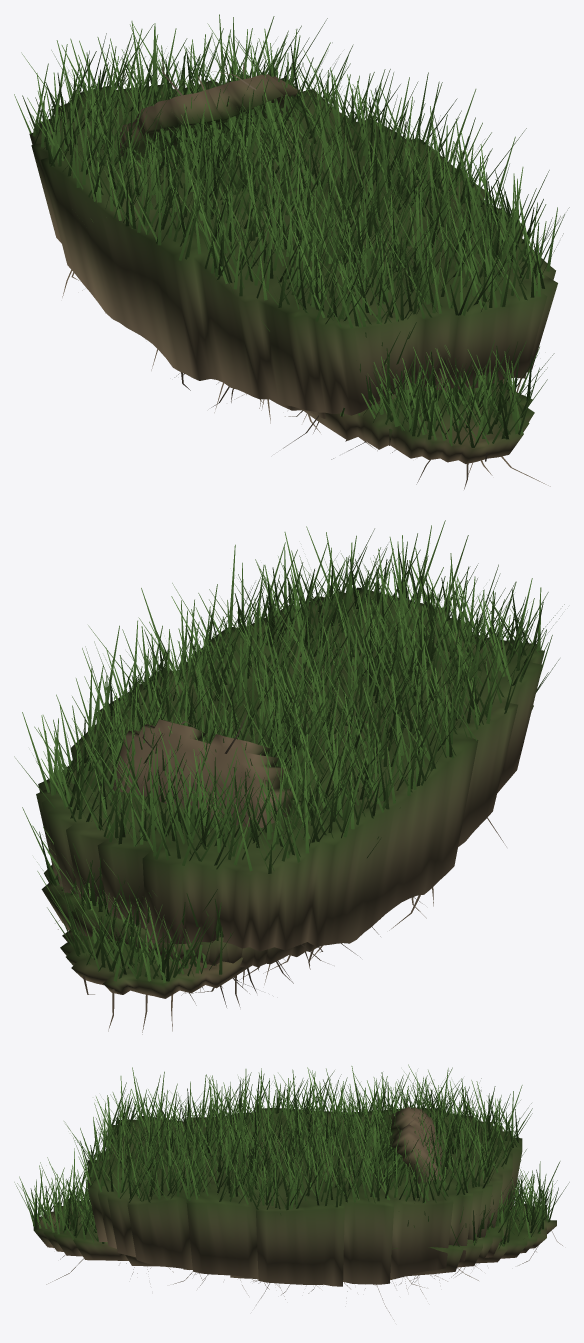
Rendered from divots.glb.
3 renders of one model, top to bottom at view 1: azimuth 30°, elevation 25°; view 2: azimuth 150°, elevation 25°; view 3: azimuth 270°, elevation 25°, orthographic. The views are drawn at different scales.
Parts seen in each view (by area): view 1: divot_chunk, divot_curl, divot_strip; view 2: divot_chunk, divot_strip, divot_curl, divot_broken_b, divot_dollar; view 3: divot_chunk, divot_curl, divot_strip, divot_broken_b.
Boxes of the visible parts, <box> form: divot_chunk: <box>14,14,569,448</box>; divot_curl: <box>119,56,554,489</box>; divot_strip: <box>29,115,520,484</box>; divot_chunk: <box>14,520,564,991</box>; divot_strip: <box>37,642,548,1034</box>; divot_curl: <box>113,599,559,981</box>; divot_broken_b: <box>22,807,400,1007</box>; divot_dollar: <box>32,825,433,1005</box>; divot_chunk: <box>64,1064,532,1319</box>; divot_curl: <box>14,1094,449,1285</box>; divot_strip: <box>49,1161,569,1287</box>; divot_broken_b: <box>344,1149,528,1294</box>.
Size of the model in its own units: 0.0838 by 0.061 by 0.169.
